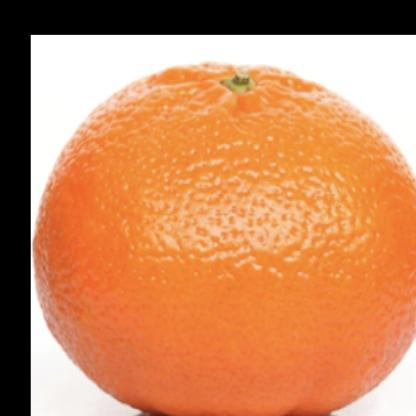fresh: (38, 63, 416, 416)
